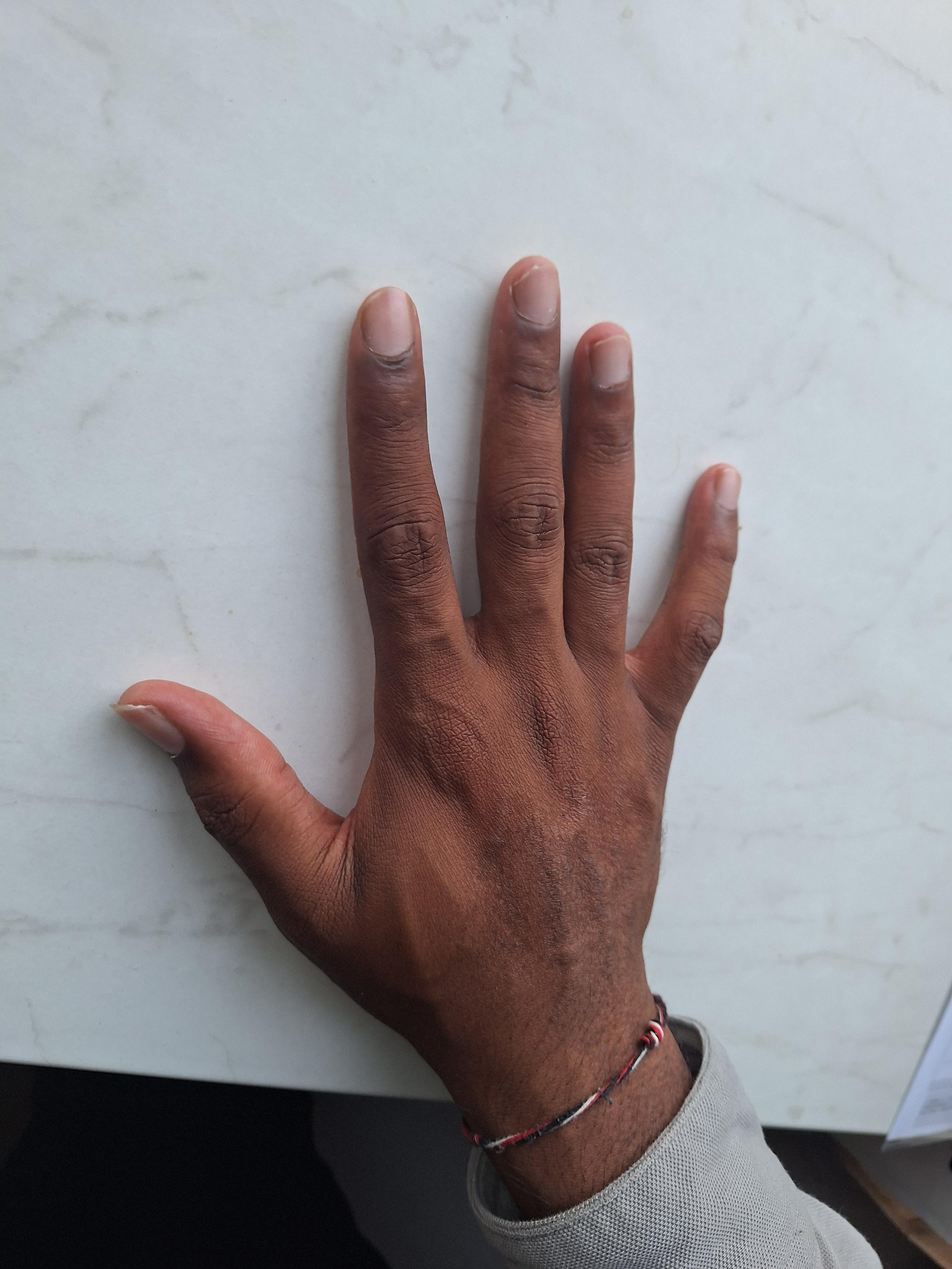Fingernail: (361, 288, 415, 358), (113, 705, 185, 757), (512, 265, 558, 324), (591, 336, 629, 389), (715, 469, 741, 511)
